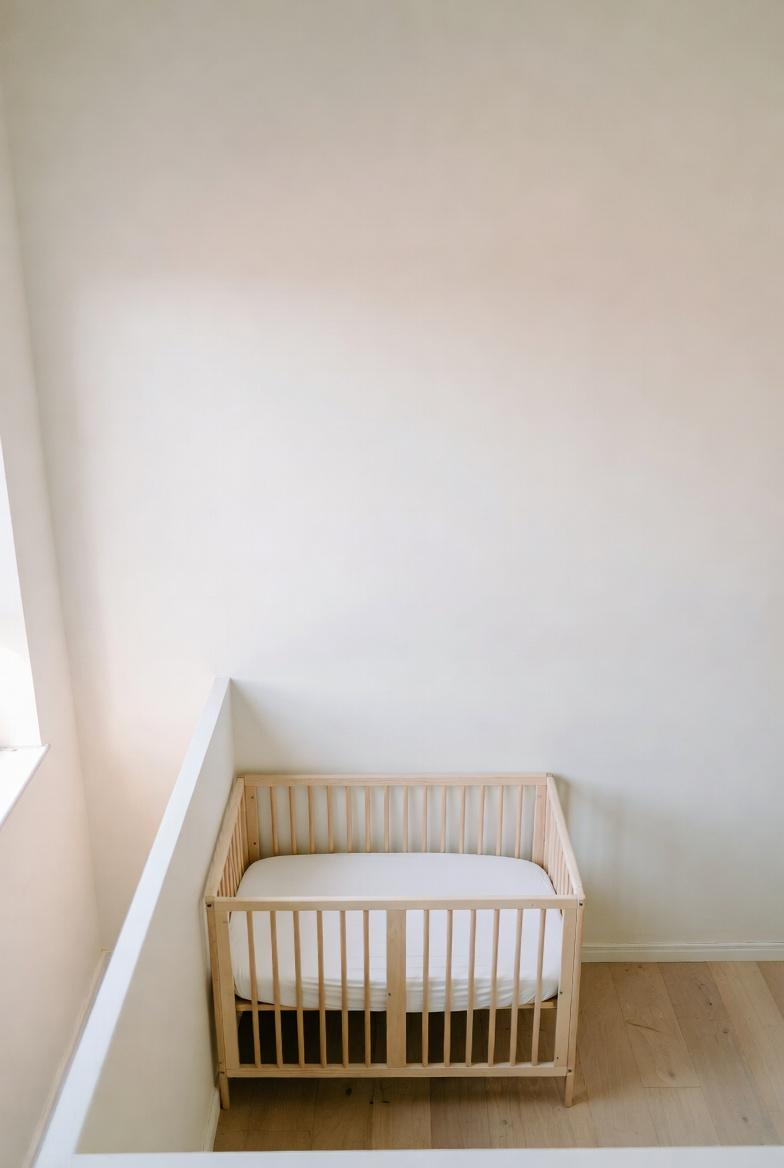crib: (206, 775, 584, 1107)
